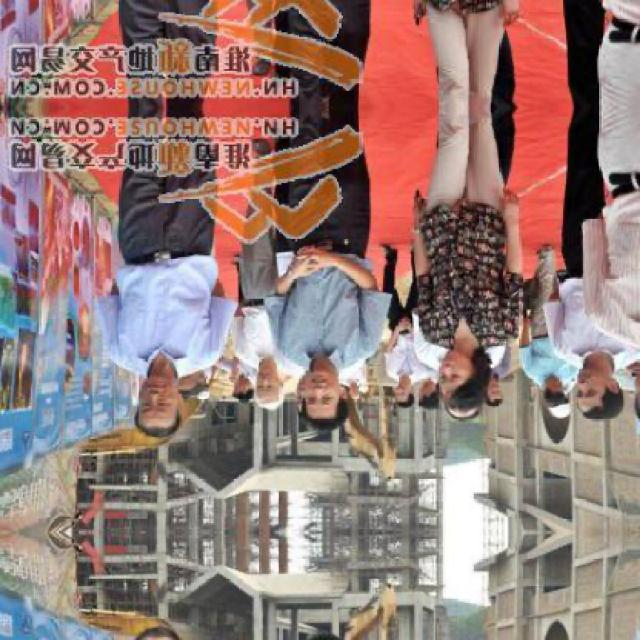sin casco: (426, 335, 538, 420), (289, 370, 393, 443), (124, 386, 189, 442), (632, 411, 634, 412)
